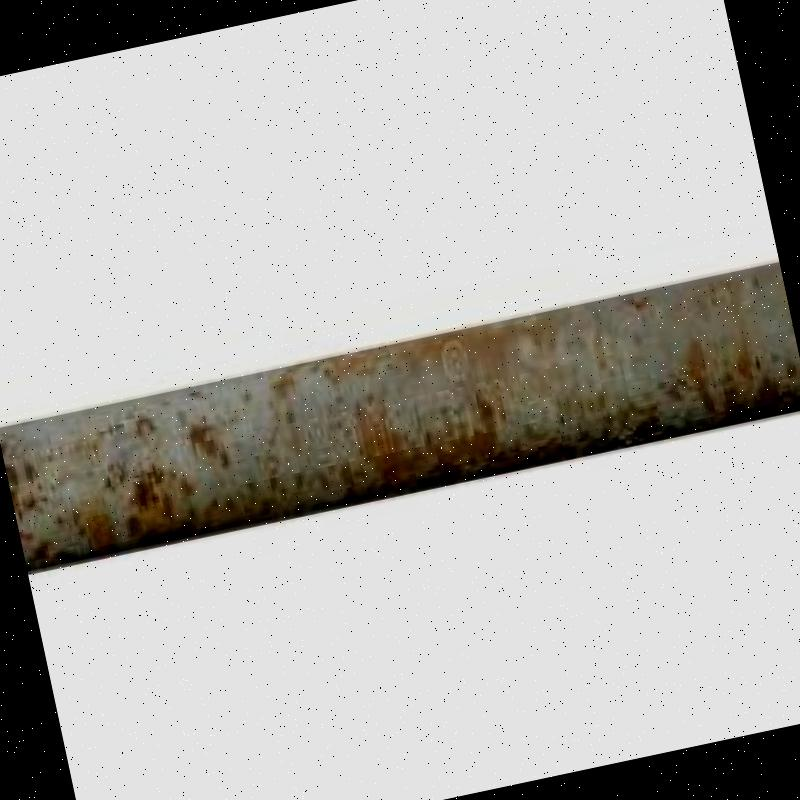corrosion: (0, 264, 800, 570)
